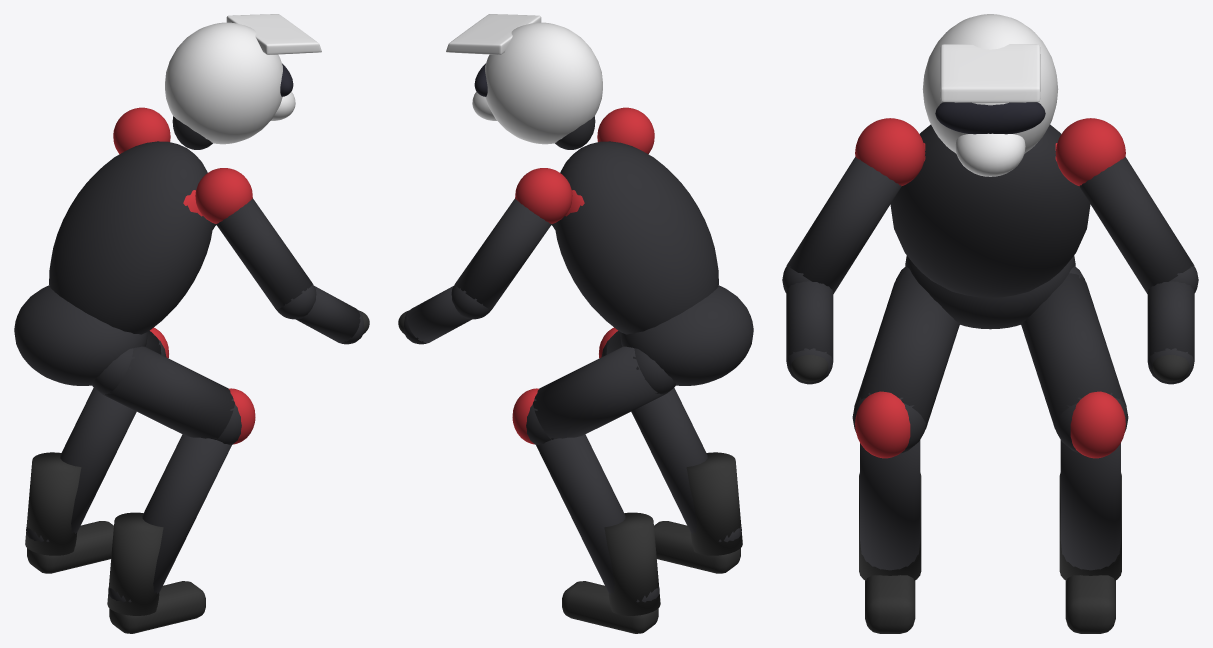
The model's file is SM690_Pilota.glb.
3 views of the same model, side by side, from view 1: azimuth 30°, elevation 25°; view 2: azimuth 150°, elevation 25°; view 3: azimuth 270°, elevation 25° (orthographic). The views are drawn at different scales.
Visible parts, largest first — view 1: SM690_Pilota; view 2: SM690_Pilota; view 3: SM690_Pilota.
Boxes of the visible parts, x1,y1,x2,y2 form: SM690_Pilota: [14, 14, 369, 633]; SM690_Pilota: [398, 14, 753, 633]; SM690_Pilota: [782, 14, 1198, 633].
Size of the model in its own units: 0.7823 by 1.45 by 0.83.
